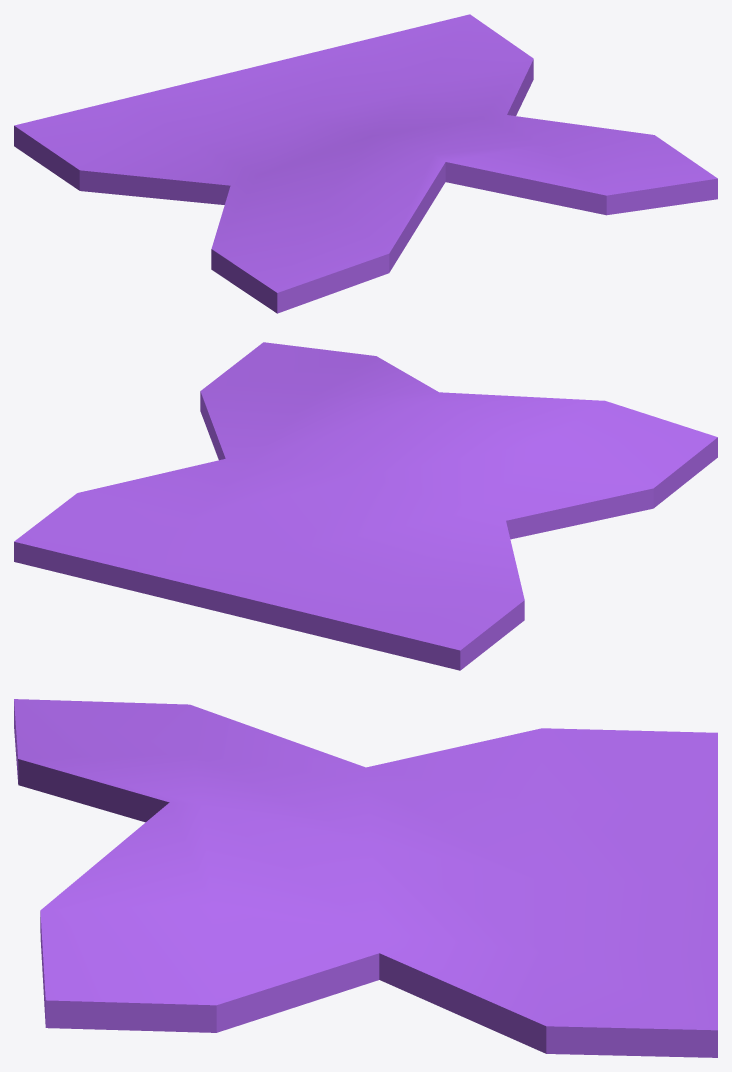
Rendered from post-X-2.fbx.
3 views of the same model, one above another, from view 1: azimuth 30°, elevation 25°; view 2: azimuth 150°, elevation 25°; view 3: azimuth 270°, elevation 25° (orthographic). The views are drawn at different scales.
Visible parts, largest first — view 1: Plane.001; view 2: Plane.001; view 3: Plane.001.
Boxes of the visible parts, <box> form: Plane.001: <box>14,14,717,313</box>; Plane.001: <box>14,342,717,670</box>; Plane.001: <box>14,699,717,1057</box>.
Size of the model in its own units: 200 by 33.17 by 200.
